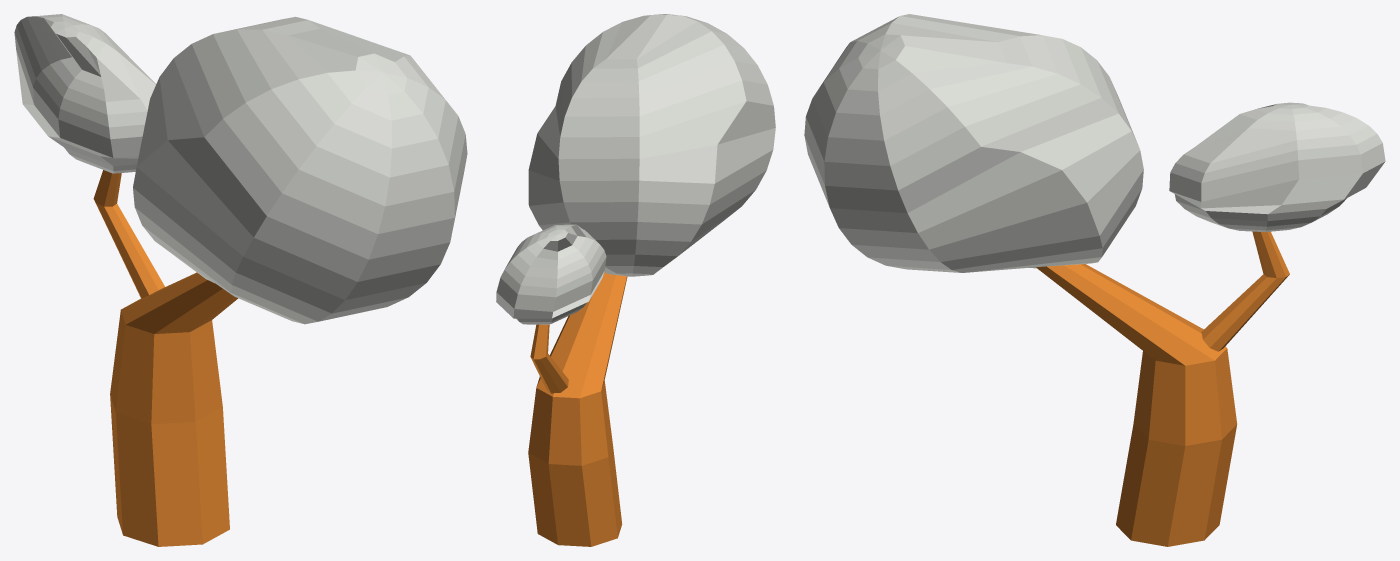
3 views of the same model, side by side, from view 1: azimuth 30°, elevation 25°; view 2: azimuth 150°, elevation 25°; view 3: azimuth 270°, elevation 25° (orthographic). The views are drawn at different scales.
Visible parts, largest first — view 1: Cylinder.002, Cylinder.001; view 2: Cylinder.002, Cylinder.001; view 3: Cylinder.002, Cylinder.001.
Boxes of the visible parts, x1,y1,x2,y2 form: Cylinder.002: [14, 14, 467, 324]; Cylinder.001: [93, 170, 237, 546]; Cylinder.002: [496, 14, 775, 324]; Cylinder.001: [528, 272, 627, 546]; Cylinder.002: [804, 14, 1385, 272]; Cylinder.001: [1036, 231, 1289, 546].
Size of the model in its own units: 499 by 1073 by 1120.
